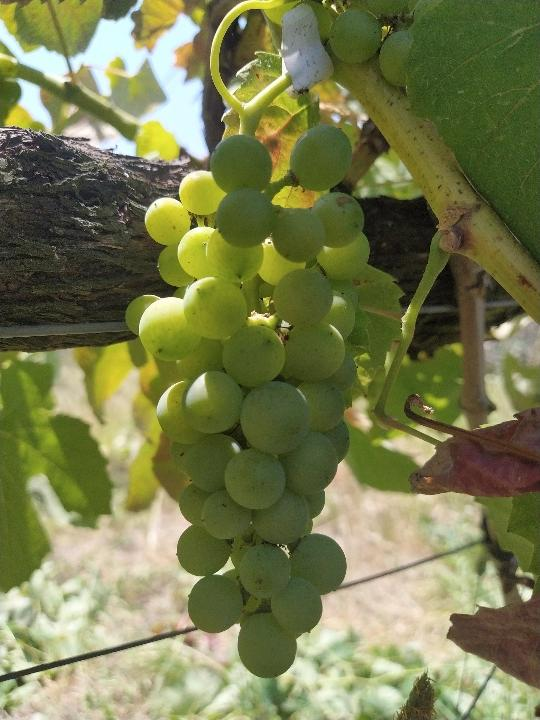grape: (124, 122, 371, 680)
